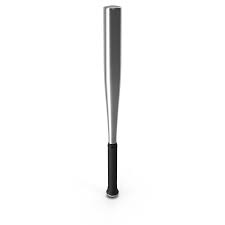baseball bat: (101, 4, 123, 199)
